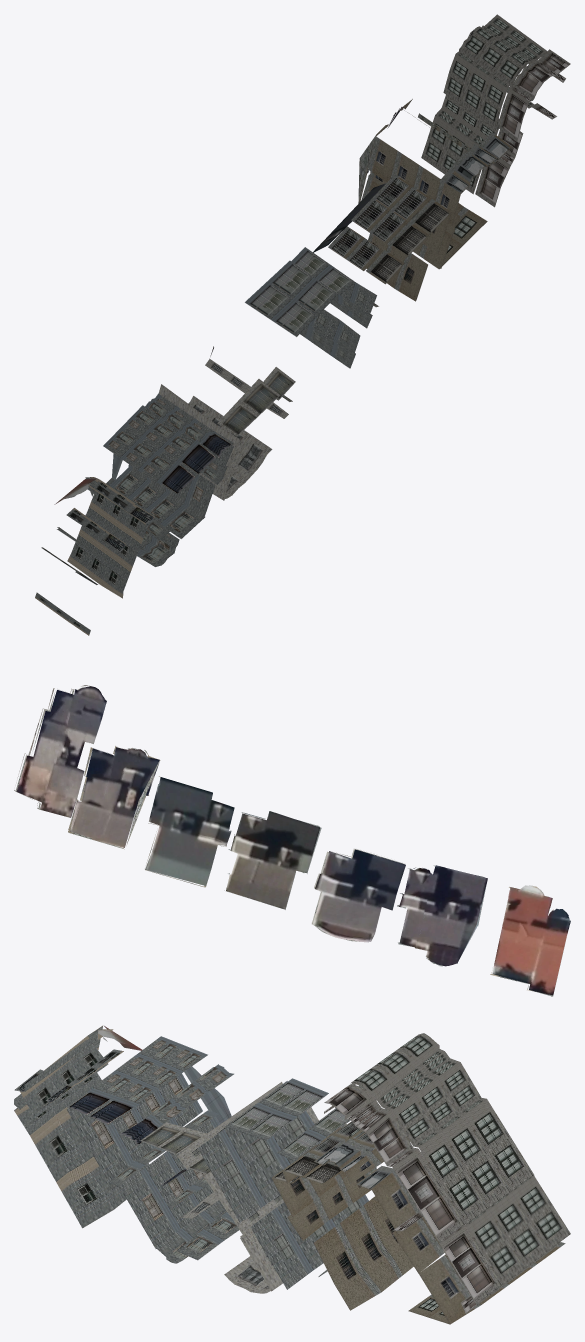
Rendered from tile_LOD4_r15_c5.glb.
The picture shows the model from 3 angles, top to bottom: view 1: azimuth 30°, elevation 25°; view 2: azimuth 150°, elevation 25°; view 3: azimuth 270°, elevation 25°; orthographic projection. The views are drawn at different scales.
Size of the model in its own units: 96.5 by 57.5 by 53.
33 materials, 33 textured.
